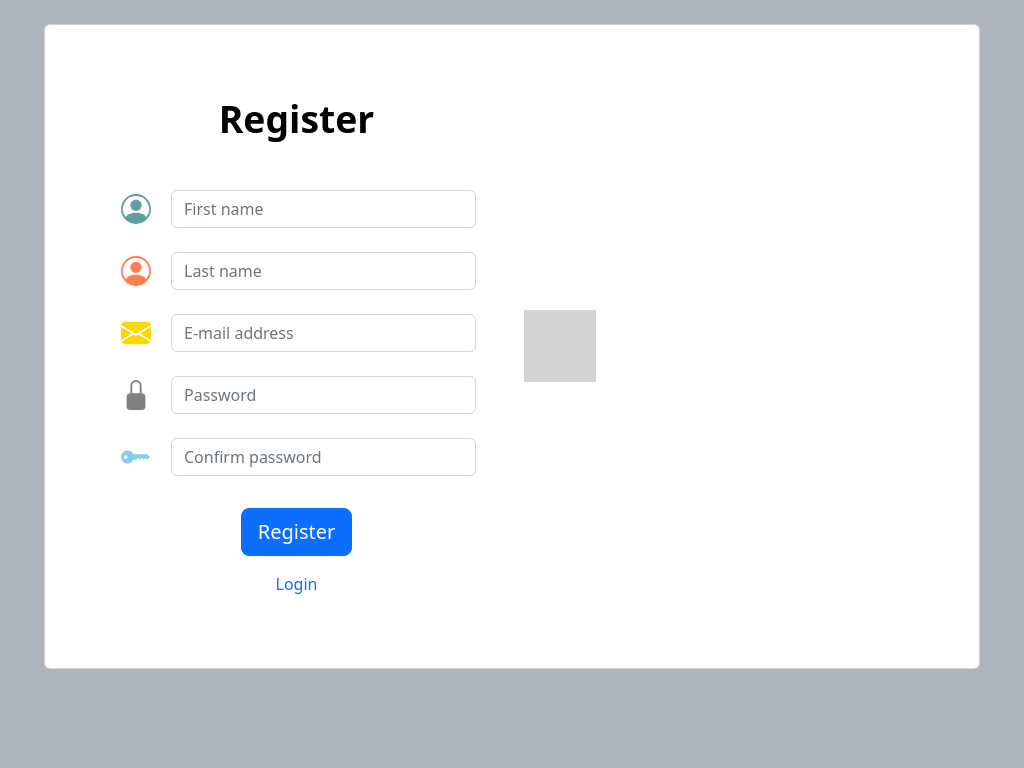
Test: After submitting a valid form on Register component › shows error alert if error is cought
Type "Tom" into the field with placeholder "First name" at (324, 209), box [171,190,476,228]
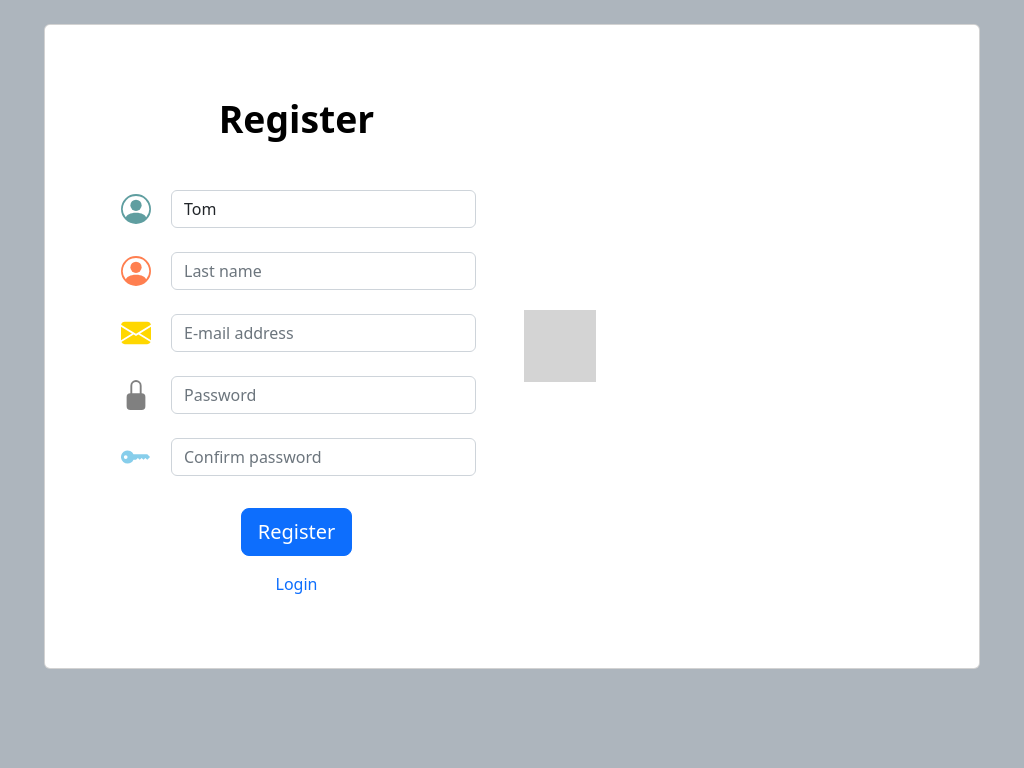
Type "Test" into the field with placeholder "Last name" at (324, 271), box [171,252,476,290]
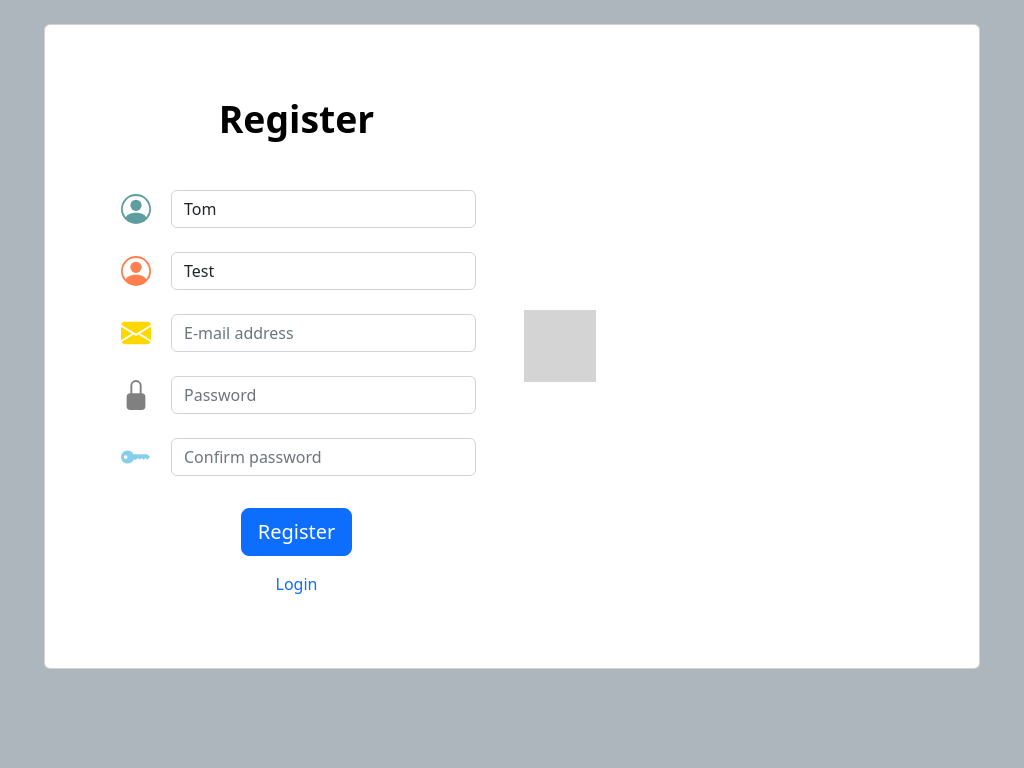
Type "tom-test@tmail.com" into the field with placeholder "E-mail address" at (324, 333), box [171,314,476,352]
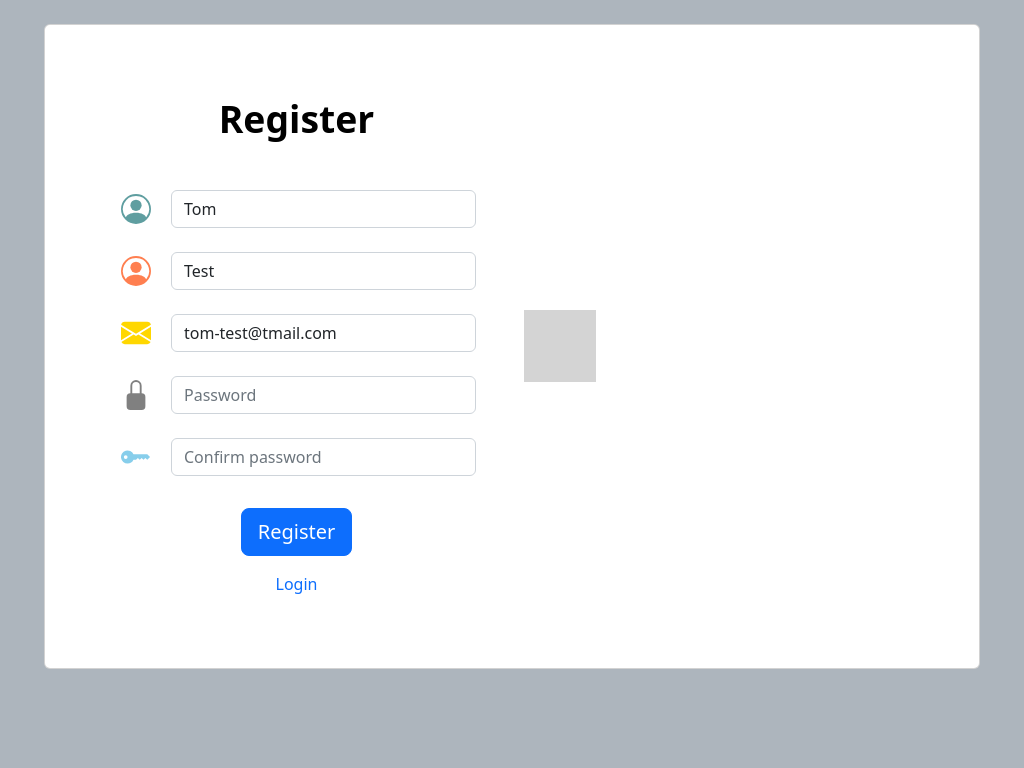
Type "1212qwQW" into the password field with placeholder "Password" at (324, 395), box [171,376,476,414]
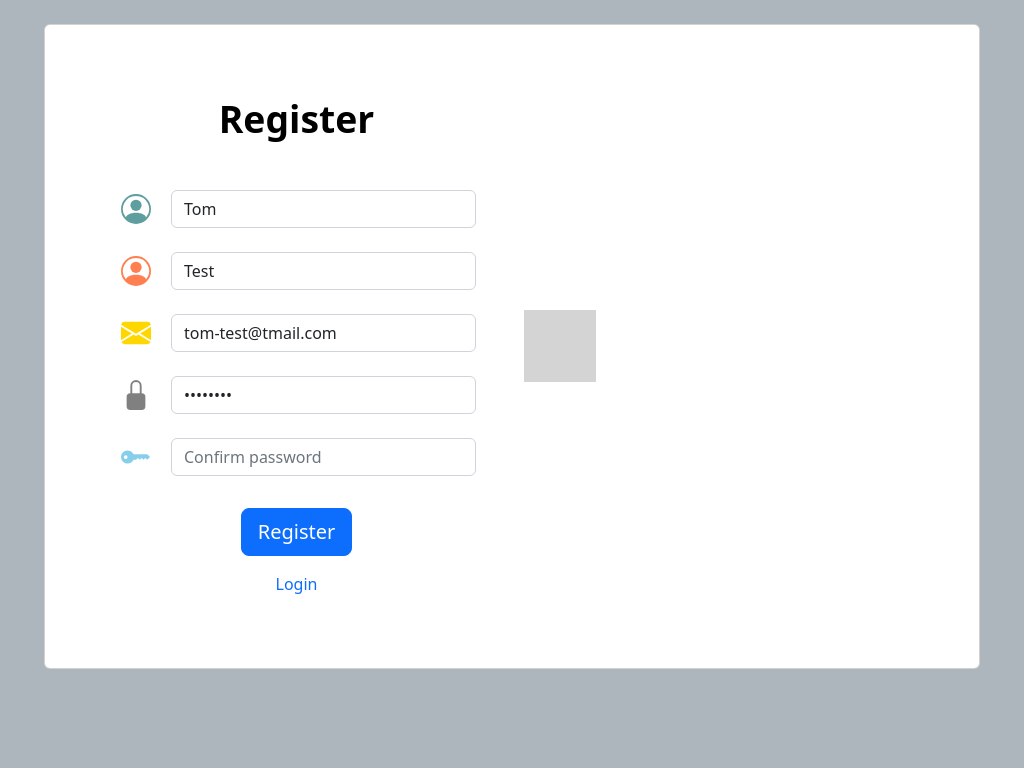
Type "1212qwQW" into the password field with placeholder "Confirm password" at (324, 457), box [171,438,476,476]
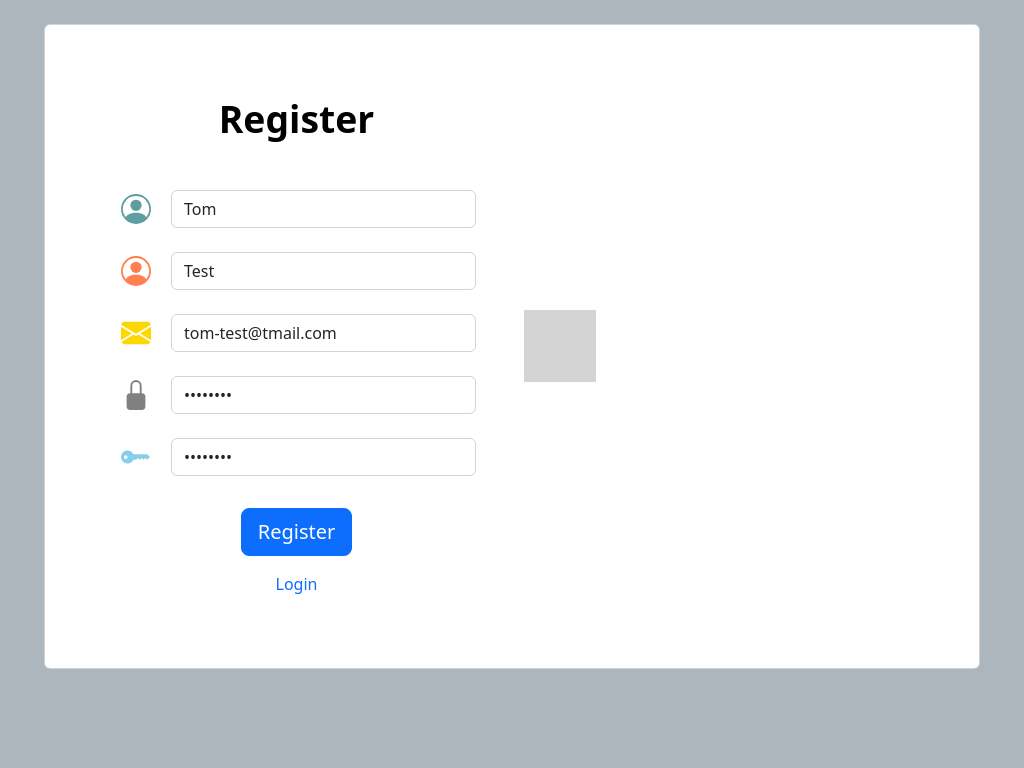
Click the button with test id "submit" at (296, 532), box [241,508,352,556]
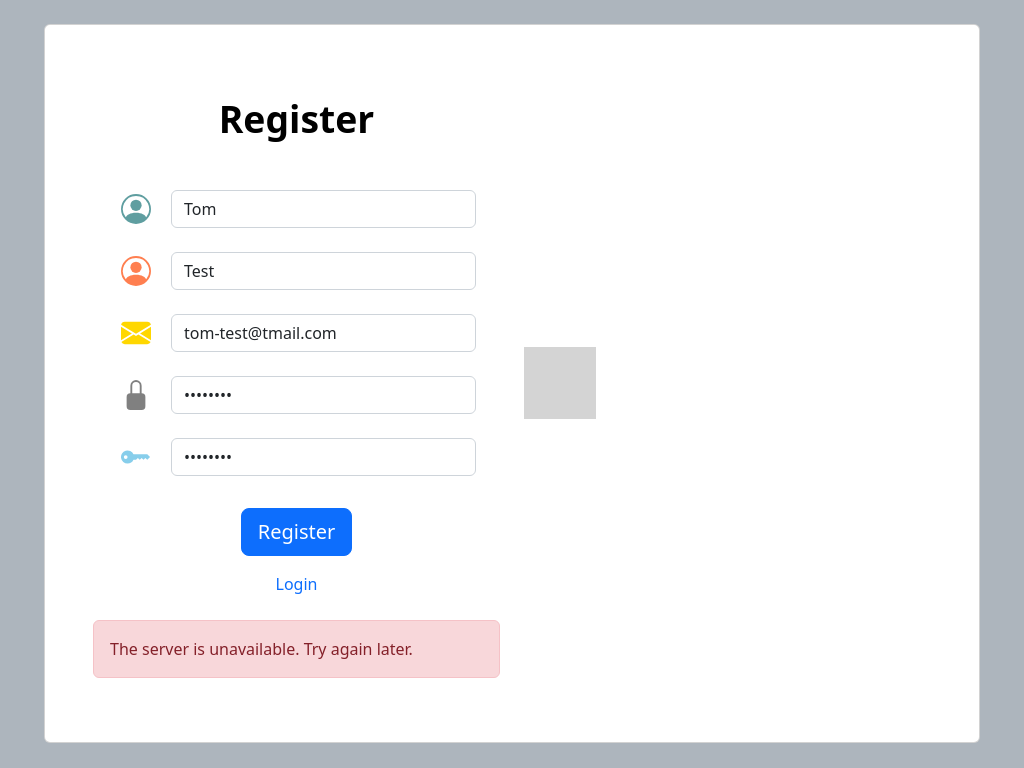
expect the text "The server is unavailable. Try again later." is shown: met, box [93,620,500,678]
